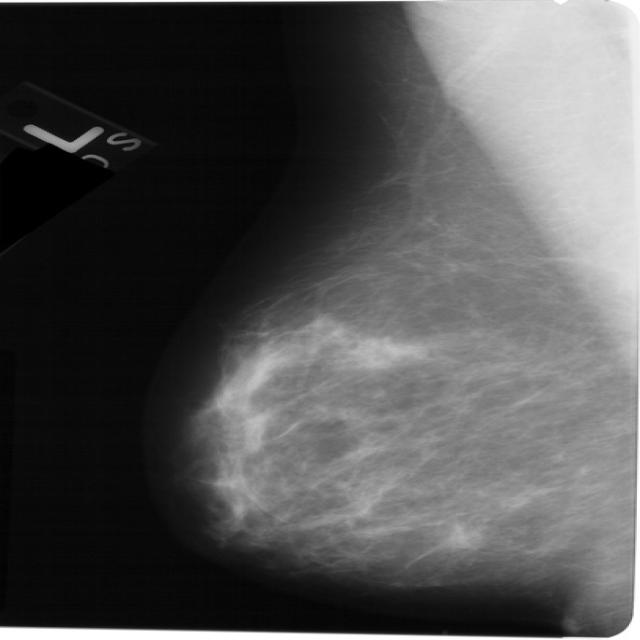tumour: (335, 334, 426, 368)
